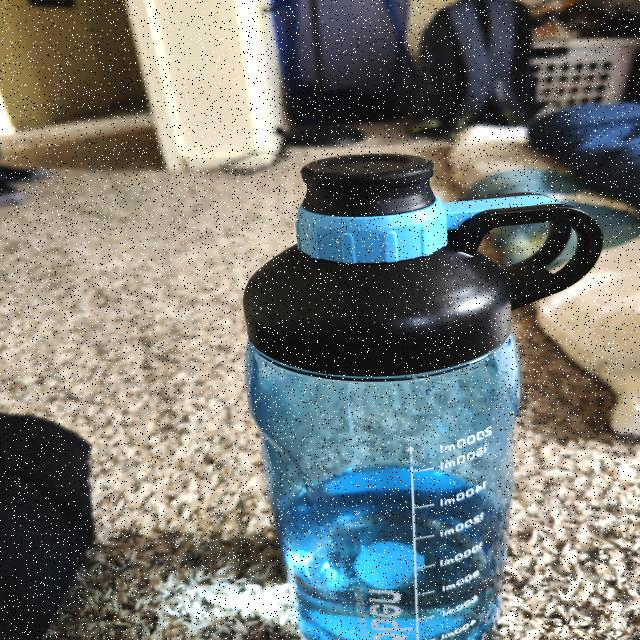bottle: (245, 158, 603, 640)
